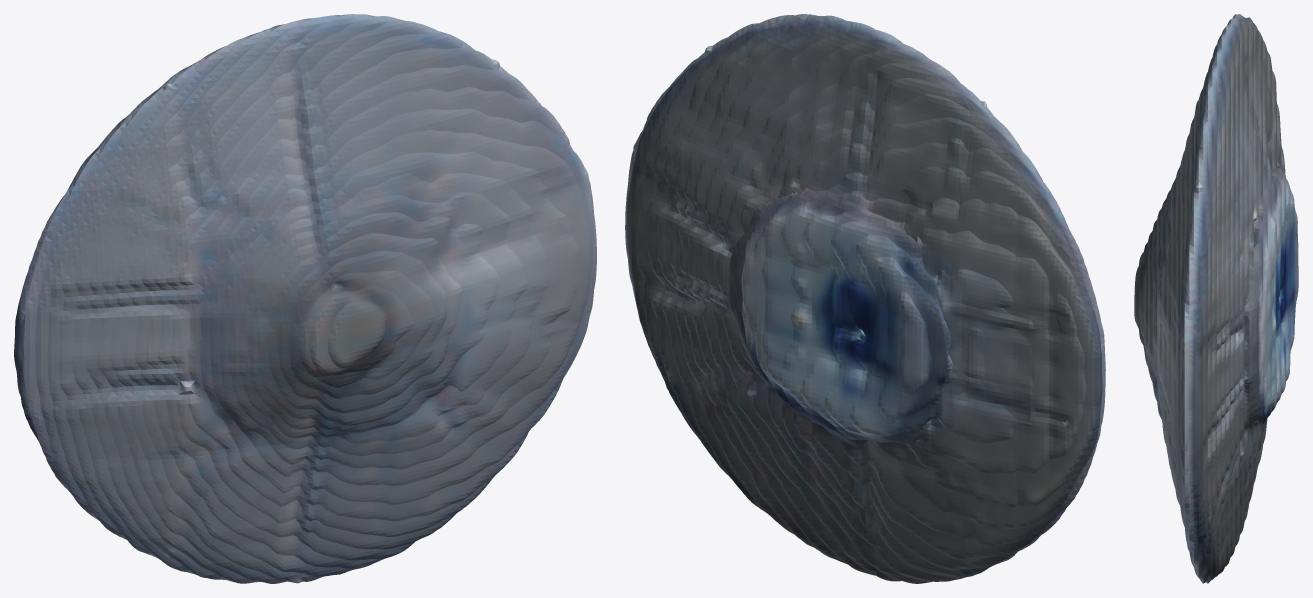
File: spaceship.glb
The picture shows the model from 3 angles, left to right: view 1: azimuth 30°, elevation 25°; view 2: azimuth 150°, elevation 25°; view 3: azimuth 270°, elevation 25°; orthographic projection. The views are drawn at different scales.
Parts seen in each view (by area): view 1: world; view 2: world; view 3: world.
Part boxes in pixels (x1,y1,x2,y2): world: (14,14,596,583); world: (625,14,1105,583); world: (1134,14,1298,583).
Bounding box in the file's own units: 0.8481 × 0.8502 × 0.2437.
